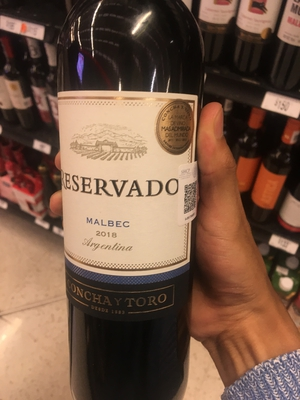reservado malbec: (51, 6, 196, 400)
